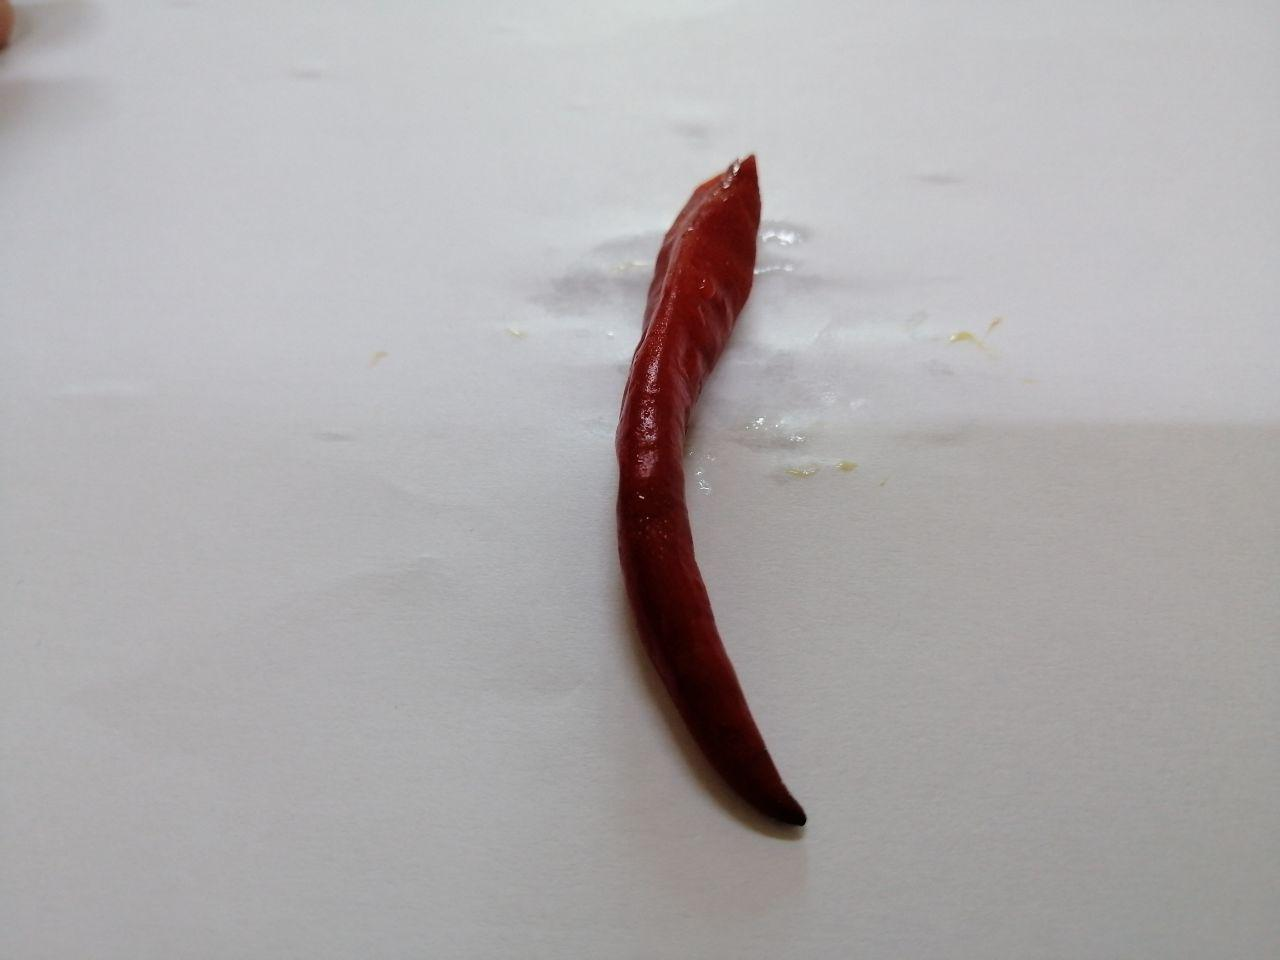lada merah: (581, 119, 846, 867)
